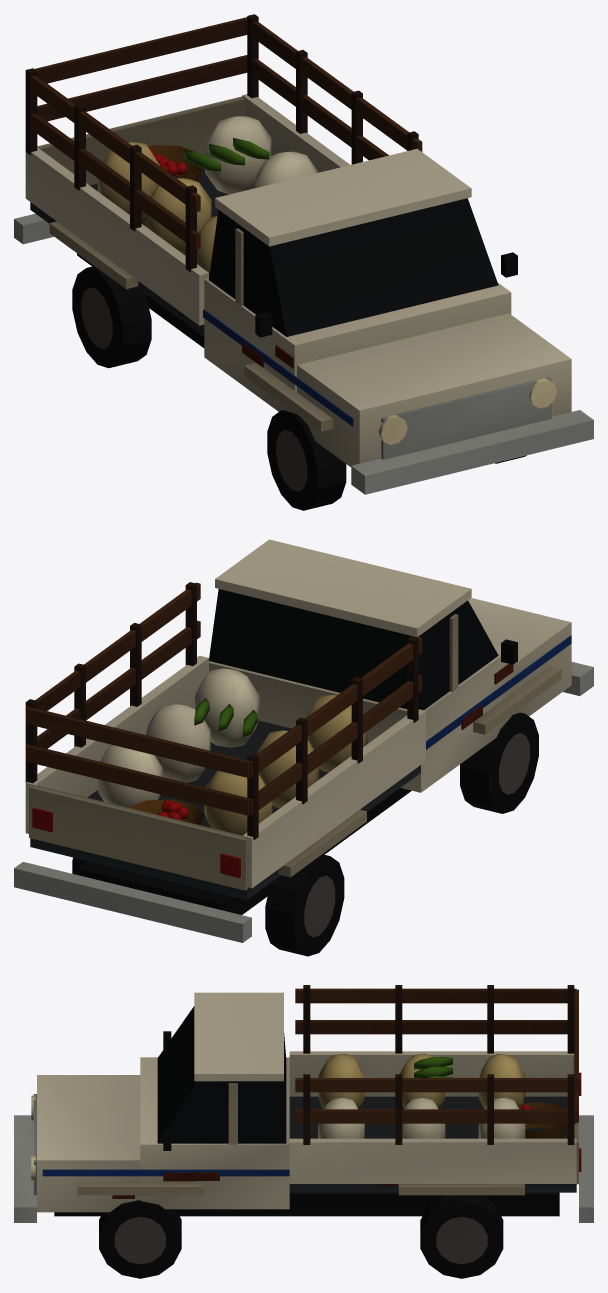
The model's file is fm_truck.glb.
The picture shows the model from 3 angles, top to bottom: view 1: azimuth 30°, elevation 25°; view 2: azimuth 150°, elevation 25°; view 3: azimuth 270°, elevation 25°; orthographic projection. The views are drawn at different scales.
Parts seen in each view (by area): view 1: fm_truck; view 2: fm_truck; view 3: fm_truck.
Part boxes in pixels (x1,y1,x2,y2): fm_truck: (14,14,593,510); fm_truck: (14,539,593,956); fm_truck: (14,985,593,1278).
Bounding box in the file's own units: 2.14 × 1.95 × 5.05.
